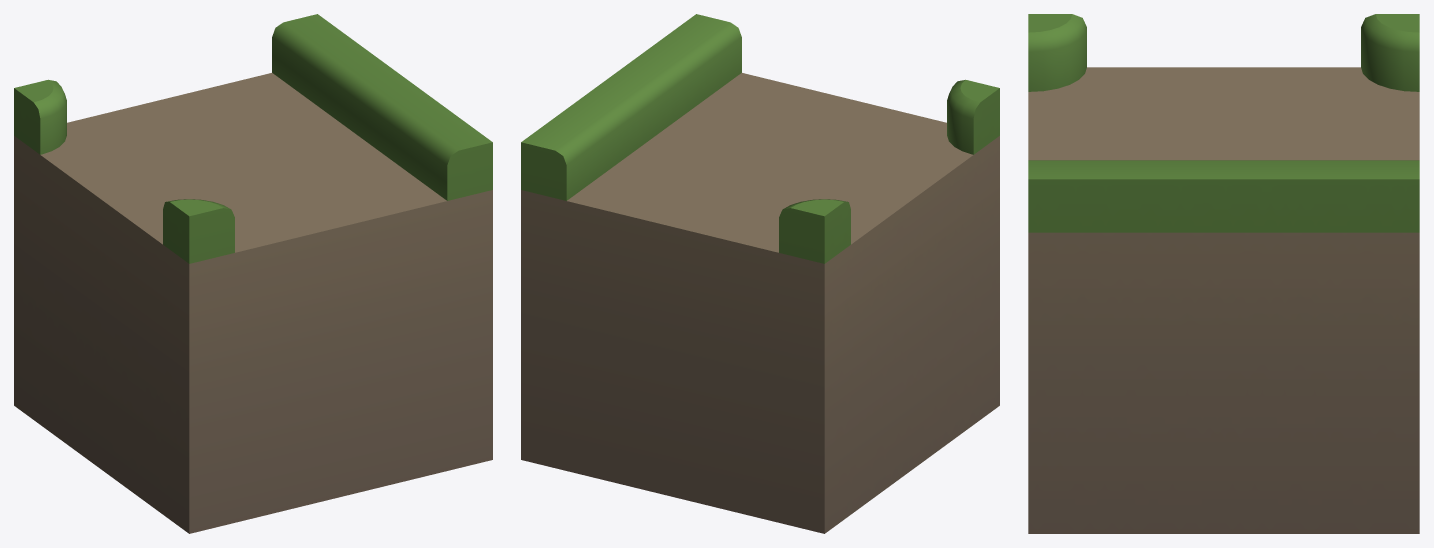
Rendered from roadCube3.fbx.
3 renders of one model, left to right at view 1: azimuth 30°, elevation 25°; view 2: azimuth 150°, elevation 25°; view 3: azimuth 270°, elevation 25°, orthographic. The views are drawn at different scales.
Parts seen in each view (by area): view 1: roadCubeBevel_t; view 2: roadCubeBevel_t; view 3: roadCubeBevel_t.
Boxes of the visible parts, x1,y1,x2,y2 form: roadCubeBevel_t: (14,14,492,533); roadCubeBevel_t: (521,14,999,533); roadCubeBevel_t: (1028,14,1419,533).
Size of the model in its own units: 200 by 200 by 200.
